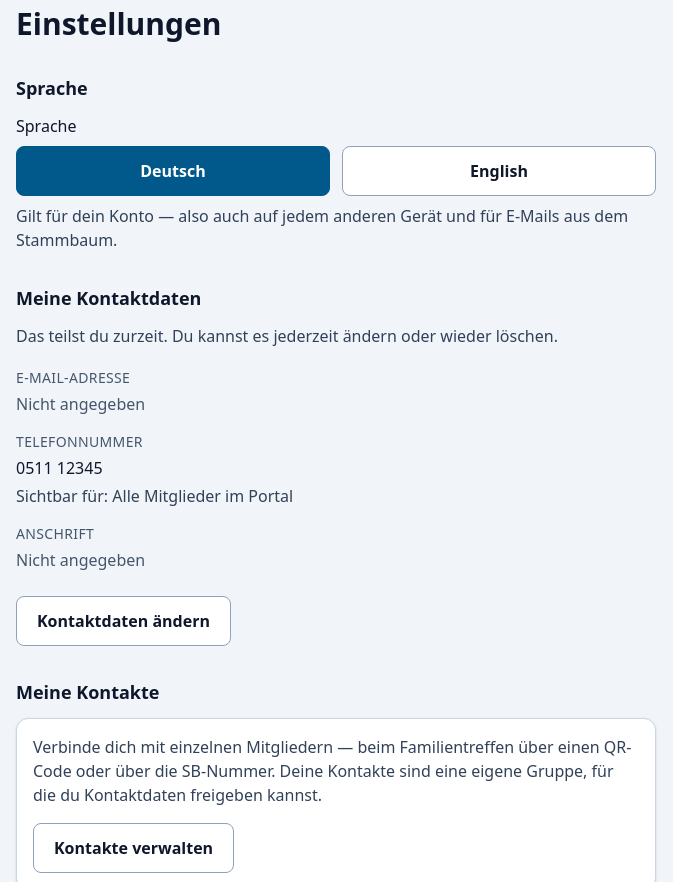
Test: my own contact details › offers an audience for every kind, not one for all of them
The image size is (673, 882).
Step 1. Click the button "Kontaktdaten ändern" → [123, 621], box [16,596,231,646]
(page scrolled)
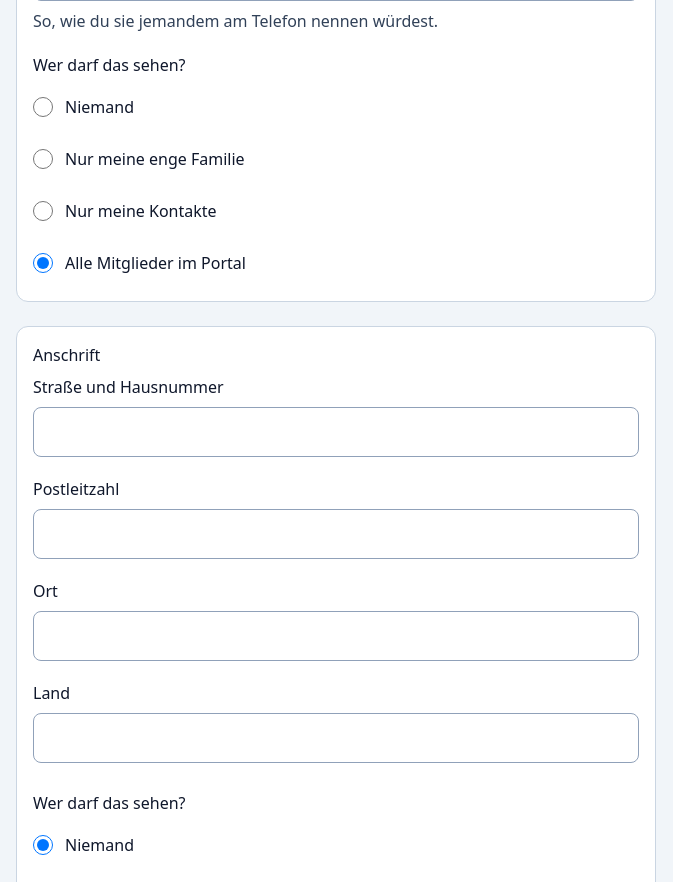
Expected: the field labelled "Straße und Hausnummer" is shown, [33,407,639,457]
Expected: the number of radio buttons labelled "Nur meine enge Familie" is 3
